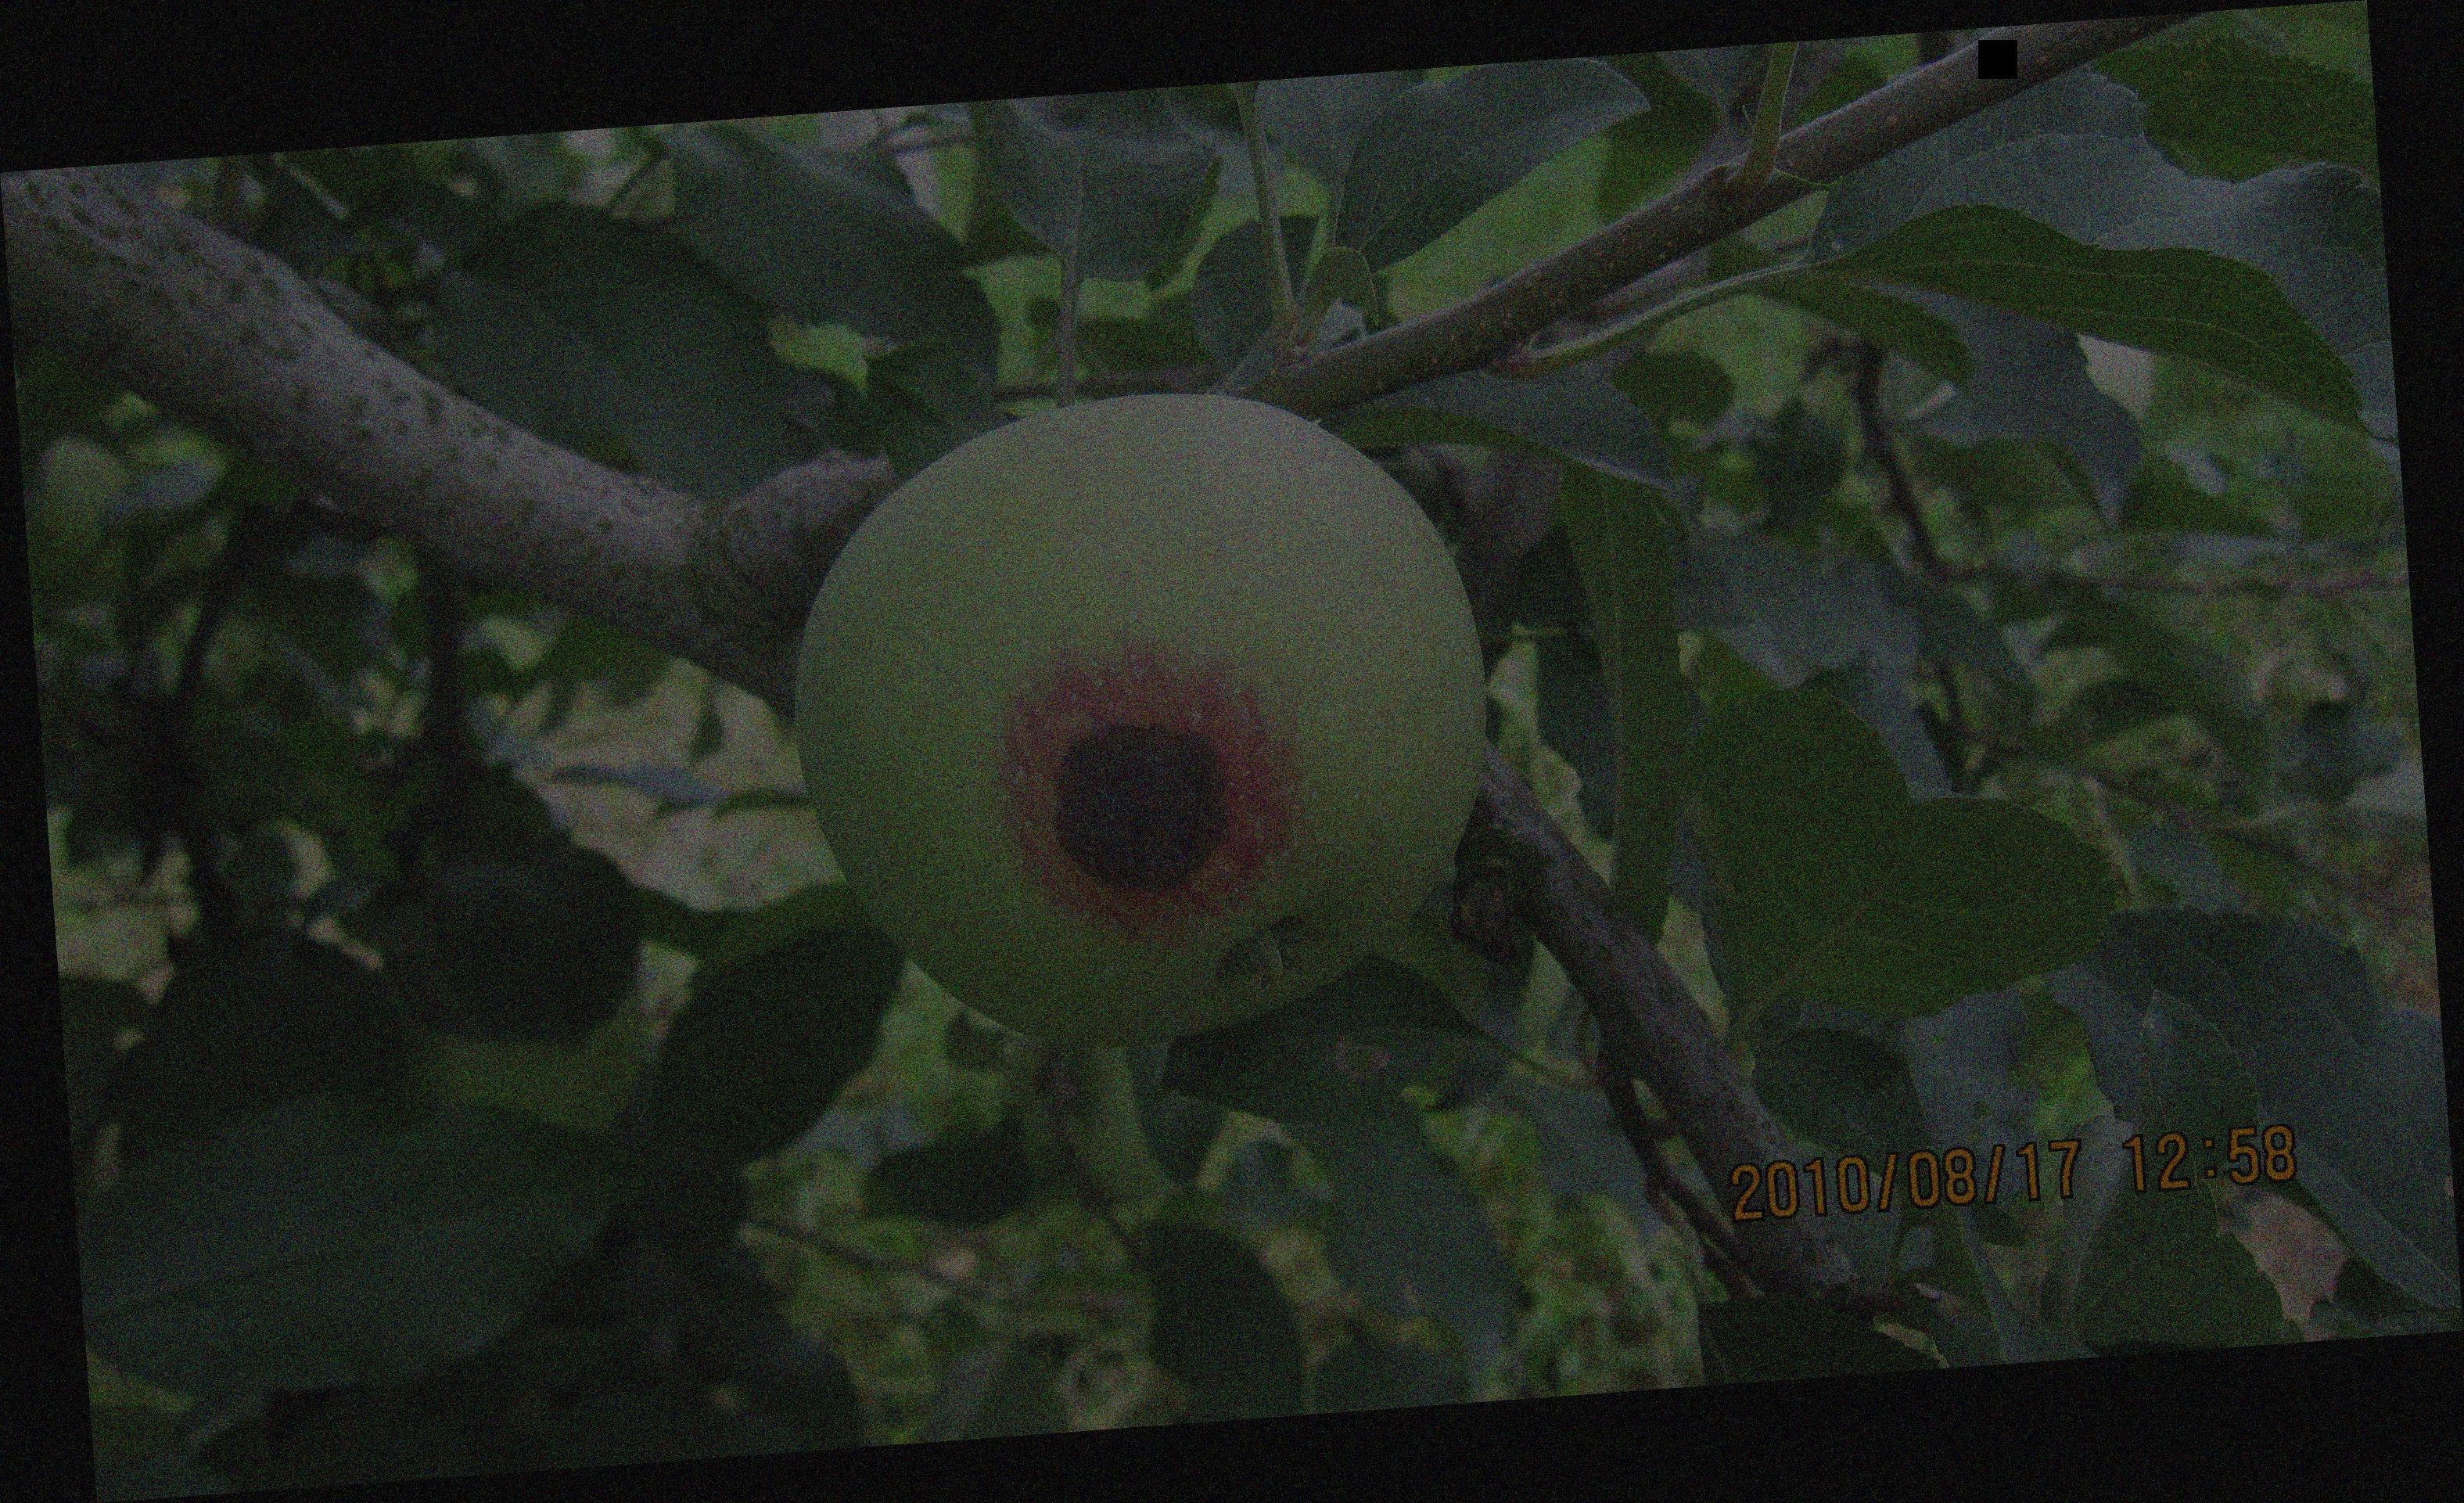rotten apple: (792, 394, 1535, 1054)
